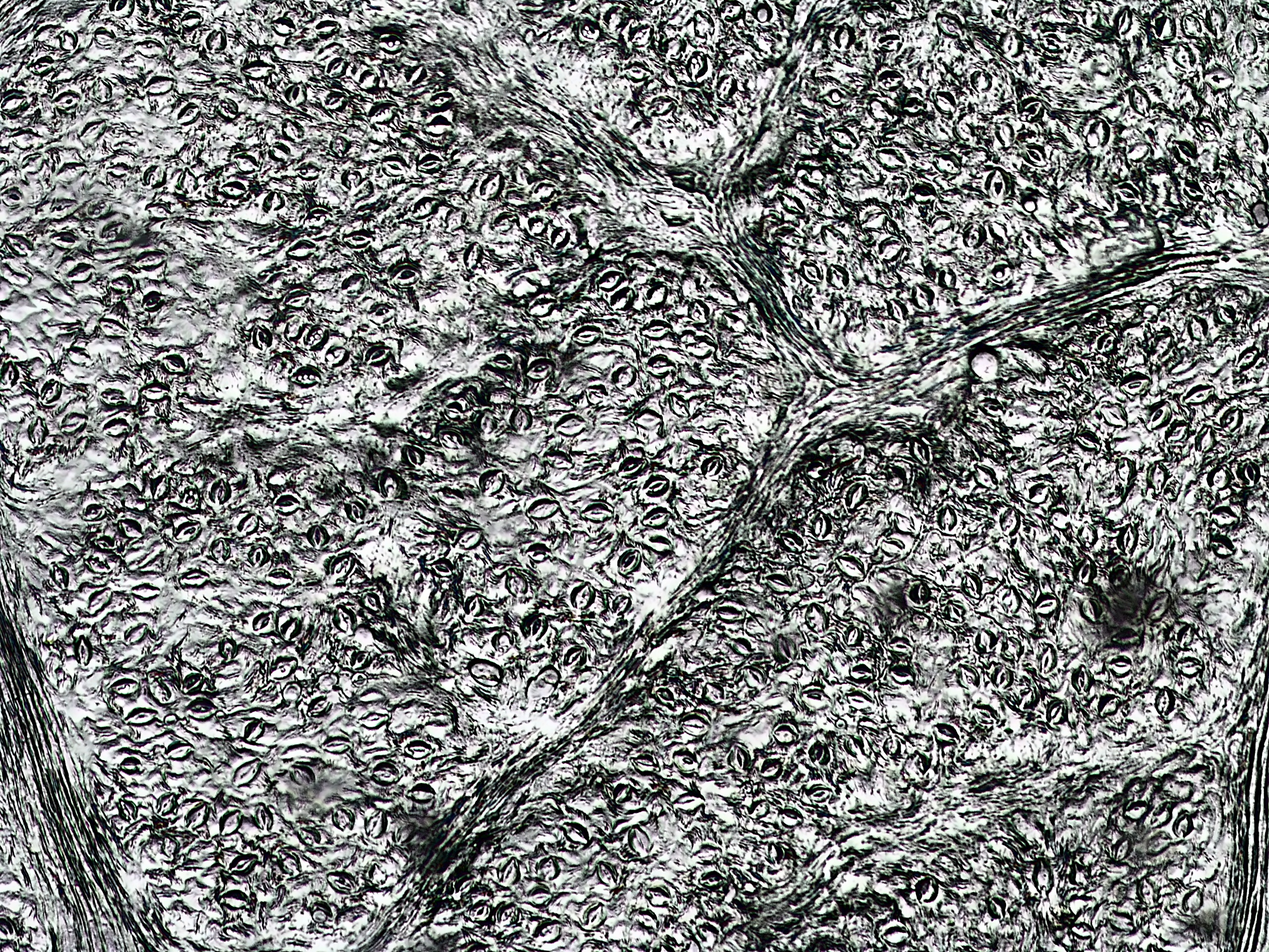stomata: (897, 434, 945, 466), (869, 915, 918, 946), (909, 870, 953, 904), (1078, 110, 1117, 148), (1101, 181, 1152, 209), (1001, 504, 1036, 542), (280, 234, 324, 264), (839, 479, 874, 516), (1171, 133, 1204, 171), (100, 412, 143, 441), (1066, 420, 1107, 450), (1040, 696, 1075, 731), (554, 410, 596, 439), (611, 443, 645, 478), (1, 82, 34, 118), (181, 691, 217, 724), (931, 11, 971, 40), (682, 290, 717, 323), (571, 314, 606, 347), (521, 609, 553, 645), (1201, 502, 1242, 530), (967, 701, 1008, 729), (1148, 458, 1174, 502), (1125, 79, 1155, 117), (464, 660, 506, 687), (133, 34, 173, 62), (772, 185, 807, 217), (932, 152, 975, 178), (641, 503, 682, 530), (393, 260, 431, 288), (246, 50, 279, 82), (472, 470, 511, 497), (564, 578, 599, 608), (689, 4, 718, 40), (761, 573, 801, 599), (624, 906, 664, 932), (277, 115, 314, 143), (990, 584, 1022, 616), (175, 92, 206, 125), (1200, 536, 1239, 562), (855, 200, 891, 228), (66, 631, 94, 667), (142, 671, 176, 700), (251, 794, 275, 835), (226, 150, 268, 173), (455, 593, 497, 616), (206, 533, 237, 564), (334, 604, 365, 635), (82, 115, 114, 145), (1014, 95, 1054, 119), (362, 806, 391, 839), (590, 260, 625, 287), (644, 352, 679, 379), (325, 869, 364, 893), (279, 767, 328, 786), (207, 471, 232, 508), (218, 809, 251, 837), (219, 883, 252, 911), (1173, 653, 1213, 676), (227, 849, 262, 875), (1122, 369, 1157, 395), (833, 553, 868, 579), (1035, 855, 1060, 891), (3, 230, 35, 258), (1040, 29, 1073, 56), (777, 630, 804, 663), (671, 747, 708, 771), (533, 174, 567, 200), (220, 758, 260, 780), (93, 314, 128, 339), (77, 553, 115, 576), (628, 410, 666, 433), (92, 382, 133, 403), (67, 257, 100, 283), (613, 59, 652, 81), (380, 468, 406, 501), (172, 5, 206, 30), (984, 167, 1009, 201), (796, 683, 830, 708), (289, 363, 318, 392), (931, 88, 960, 117), (1218, 407, 1247, 436), (912, 277, 936, 312), (646, 879, 681, 903), (36, 376, 63, 407), (832, 125, 863, 152), (1213, 299, 1244, 326), (50, 226, 88, 248), (246, 324, 278, 350), (998, 27, 1024, 59), (528, 494, 560, 520), (984, 888, 1010, 920), (1037, 639, 1060, 675), (141, 378, 174, 403), (1188, 876, 1209, 915), (1243, 447, 1262, 490), (125, 704, 159, 728), (840, 689, 874, 713), (483, 166, 505, 203), (878, 63, 906, 92), (503, 571, 532, 599), (184, 803, 213, 831), (211, 91, 241, 118), (834, 18, 861, 48), (879, 232, 906, 262), (327, 552, 358, 578), (628, 827, 654, 858), (805, 738, 836, 764), (977, 457, 1000, 492), (419, 153, 451, 178), (133, 249, 173, 269), (641, 316, 673, 341), (715, 601, 753, 622), (1139, 879, 1167, 907), (162, 738, 196, 761), (407, 781, 437, 807), (1066, 358, 1096, 384), (951, 663, 981, 689), (1000, 628, 1026, 658), (1073, 555, 1098, 586), (518, 207, 550, 231), (1154, 684, 1173, 724), (1234, 26, 1257, 59), (988, 660, 1015, 688), (606, 285, 635, 311), (699, 449, 725, 478), (575, 16, 605, 41), (525, 541, 555, 566), (1092, 324, 1117, 354), (1148, 588, 1173, 618), (497, 899, 522, 929), (563, 819, 593, 844), (1183, 381, 1217, 403), (1206, 65, 1237, 89), (827, 257, 851, 288), (583, 900, 607, 931), (145, 72, 177, 95), (216, 632, 239, 664), (342, 232, 377, 253), (446, 526, 481, 547), (673, 790, 708, 811), (128, 580, 171, 597), (278, 850, 306, 876), (1080, 595, 1106, 623), (613, 777, 639, 805), (220, 178, 253, 200), (1207, 1, 1229, 34), (1025, 146, 1054, 171), (884, 537, 913, 562), (600, 3, 624, 33), (964, 219, 988, 249), (547, 217, 571, 247), (530, 917, 560, 941), (685, 49, 708, 80), (644, 271, 667, 302), (994, 561, 1025, 584), (268, 492, 305, 511), (468, 246, 493, 274), (581, 501, 609, 526), (330, 806, 358, 831), (888, 511, 916, 536), (937, 599, 966, 623), (578, 385, 611, 406), (118, 623, 151, 644), (1105, 655, 1135, 678), (597, 859, 620, 889), (644, 533, 680, 552), (266, 565, 297, 587), (251, 609, 277, 635), (780, 531, 807, 556), (279, 614, 303, 642), (938, 503, 959, 535), (887, 667, 919, 688), (62, 413, 91, 436), (412, 194, 441, 217), (178, 566, 215, 584), (158, 354, 191, 374), (878, 147, 908, 169), (108, 672, 141, 692), (157, 793, 187, 815), (1119, 526, 1141, 556), (885, 636, 915, 658), (49, 89, 80, 110), (372, 101, 403, 122), (427, 557, 458, 578), (97, 71, 115, 107), (1111, 9, 1135, 36), (928, 209, 952, 236), (539, 852, 566, 876), (24, 56, 58, 75), (171, 522, 205, 541), (302, 324, 325, 352), (150, 474, 173, 502), (113, 795, 141, 818), (424, 114, 456, 134), (439, 430, 468, 452), (641, 474, 670, 496), (1239, 345, 1261, 374), (295, 160, 325, 181), (758, 748, 779, 778), (809, 599, 828, 632), (48, 558, 72, 584), (618, 549, 642, 575), (566, 646, 593, 669), (1148, 400, 1171, 427), (700, 866, 727, 889), (111, 271, 133, 299), (875, 33, 903, 55), (404, 737, 440, 754), (1115, 454, 1133, 488), (631, 755, 665, 773), (426, 94, 464, 110), (301, 204, 333, 223), (97, 28, 121, 53), (1162, 416, 1186, 441), (528, 881, 552, 906), (720, 0, 746, 23), (0, 910, 23, 936), (1095, 692, 1118, 718), (323, 54, 350, 76), (530, 358, 557, 380), (503, 851, 521, 884), (352, 710, 389, 726), (117, 519, 145, 540), (781, 811, 809, 832), (64, 347, 93, 367), (305, 696, 334, 716), (525, 299, 561, 315), (935, 722, 959, 746), (687, 711, 711, 735), (734, 743, 752, 775), (650, 93, 675, 116), (1075, 523, 1098, 548), (344, 173, 370, 195), (761, 842, 787, 864), (995, 118, 1014, 148), (268, 656, 298, 675), (247, 716, 269, 741), (1027, 480, 1052, 502), (843, 734, 865, 759), (884, 292, 905, 318), (1190, 318, 1216, 339), (1036, 591, 1057, 617), (1176, 185, 1210, 201), (1196, 420, 1211, 456), (1182, 9, 1201, 37), (909, 181, 937, 200), (85, 533, 123, 547), (664, 39, 689, 60), (800, 257, 821, 282), (82, 501, 107, 522), (514, 404, 532, 433), (286, 77, 306, 103), (382, 158, 408, 178), (715, 72, 735, 98), (739, 669, 765, 689), (655, 686, 681, 706), (32, 417, 50, 445), (366, 347, 394, 365), (822, 83, 846, 104), (361, 588, 382, 612), (322, 736, 350, 754), (812, 513, 830, 541), (778, 727, 806, 745), (1153, 18, 1173, 43), (907, 575, 927, 600), (724, 309, 743, 335), (285, 292, 314, 309), (1179, 810, 1197, 837), (1126, 795, 1144, 822), (207, 30, 229, 52), (613, 366, 636, 387), (368, 305, 400, 320), (6, 358, 21, 390), (183, 671, 208, 690), (464, 901, 489, 920), (731, 637, 756, 656), (359, 66, 379, 89), (315, 18, 342, 35), (745, 803, 772, 820), (386, 30, 410, 49), (264, 190, 288, 209), (145, 165, 169, 184), (402, 443, 426, 462), (251, 543, 270, 567), (307, 522, 324, 548), (117, 753, 143, 770), (343, 501, 366, 520), (142, 293, 166, 311), (965, 575, 981, 602), (1077, 665, 1093, 692), (972, 630, 992, 651), (334, 132, 352, 155), (338, 274, 362, 291), (632, 22, 652, 42), (1173, 47, 1194, 66), (807, 789, 835, 803), (404, 65, 427, 82), (270, 19, 294, 35), (58, 30, 78, 49), (852, 663, 873, 681), (325, 96, 349, 111), (114, 0, 135, 17), (271, 141, 288, 162), (379, 758, 395, 780), (846, 624, 861, 647), (447, 403, 468, 419), (239, 514, 258, 530)
